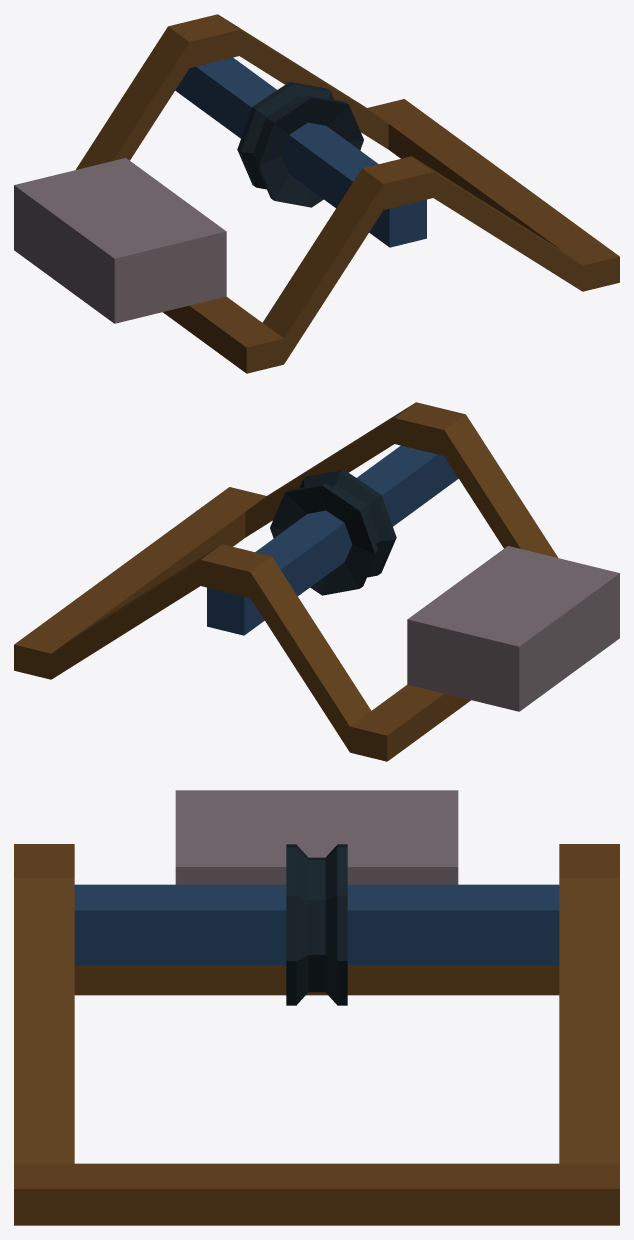
Rendered from lift_top.fbx.
The picture shows the model from 3 angles, top to bottom: view 1: azimuth 30°, elevation 25°; view 2: azimuth 150°, elevation 25°; view 3: azimuth 270°, elevation 25°; orthographic projection. The views are drawn at different scales.
Visible parts, largest first — view 1: Plane.010; view 2: Plane.010; view 3: Plane.010.
Part boxes in pixels (bbox=[...]): Plane.010: bbox=[14, 14, 619, 373]; Plane.010: bbox=[14, 402, 619, 761]; Plane.010: bbox=[14, 790, 619, 1225].
Size of the model in its own units: 360 by 127 by 300.
